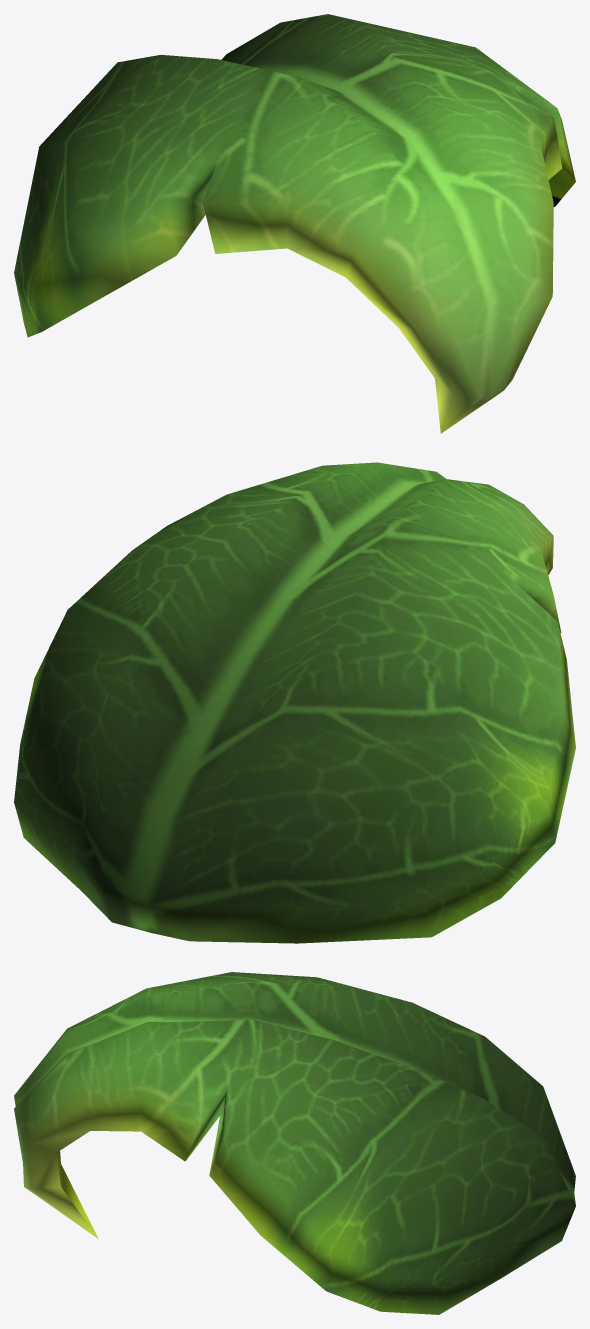
The model's file is gatlingpea_hoja_frente.obj.
3 views of the same model, one above another, from view 1: azimuth 30°, elevation 25°; view 2: azimuth 150°, elevation 25°; view 3: azimuth 270°, elevation 25° (orthographic). The views are drawn at different scales.
Visible parts, largest first — view 1: gatlingpea_hoja_frente; view 2: gatlingpea_hoja_frente; view 3: gatlingpea_hoja_frente.
Boxes of the visible parts, left/top/right/bottom form: gatlingpea_hoja_frente: left=14, top=14, right=575, bottom=433; gatlingpea_hoja_frente: left=14, top=462, right=575, bottom=943; gatlingpea_hoja_frente: left=14, top=972, right=575, bottom=1314.
Bounding box in the file's own units: 0.3937 × 0.2185 × 0.467.
